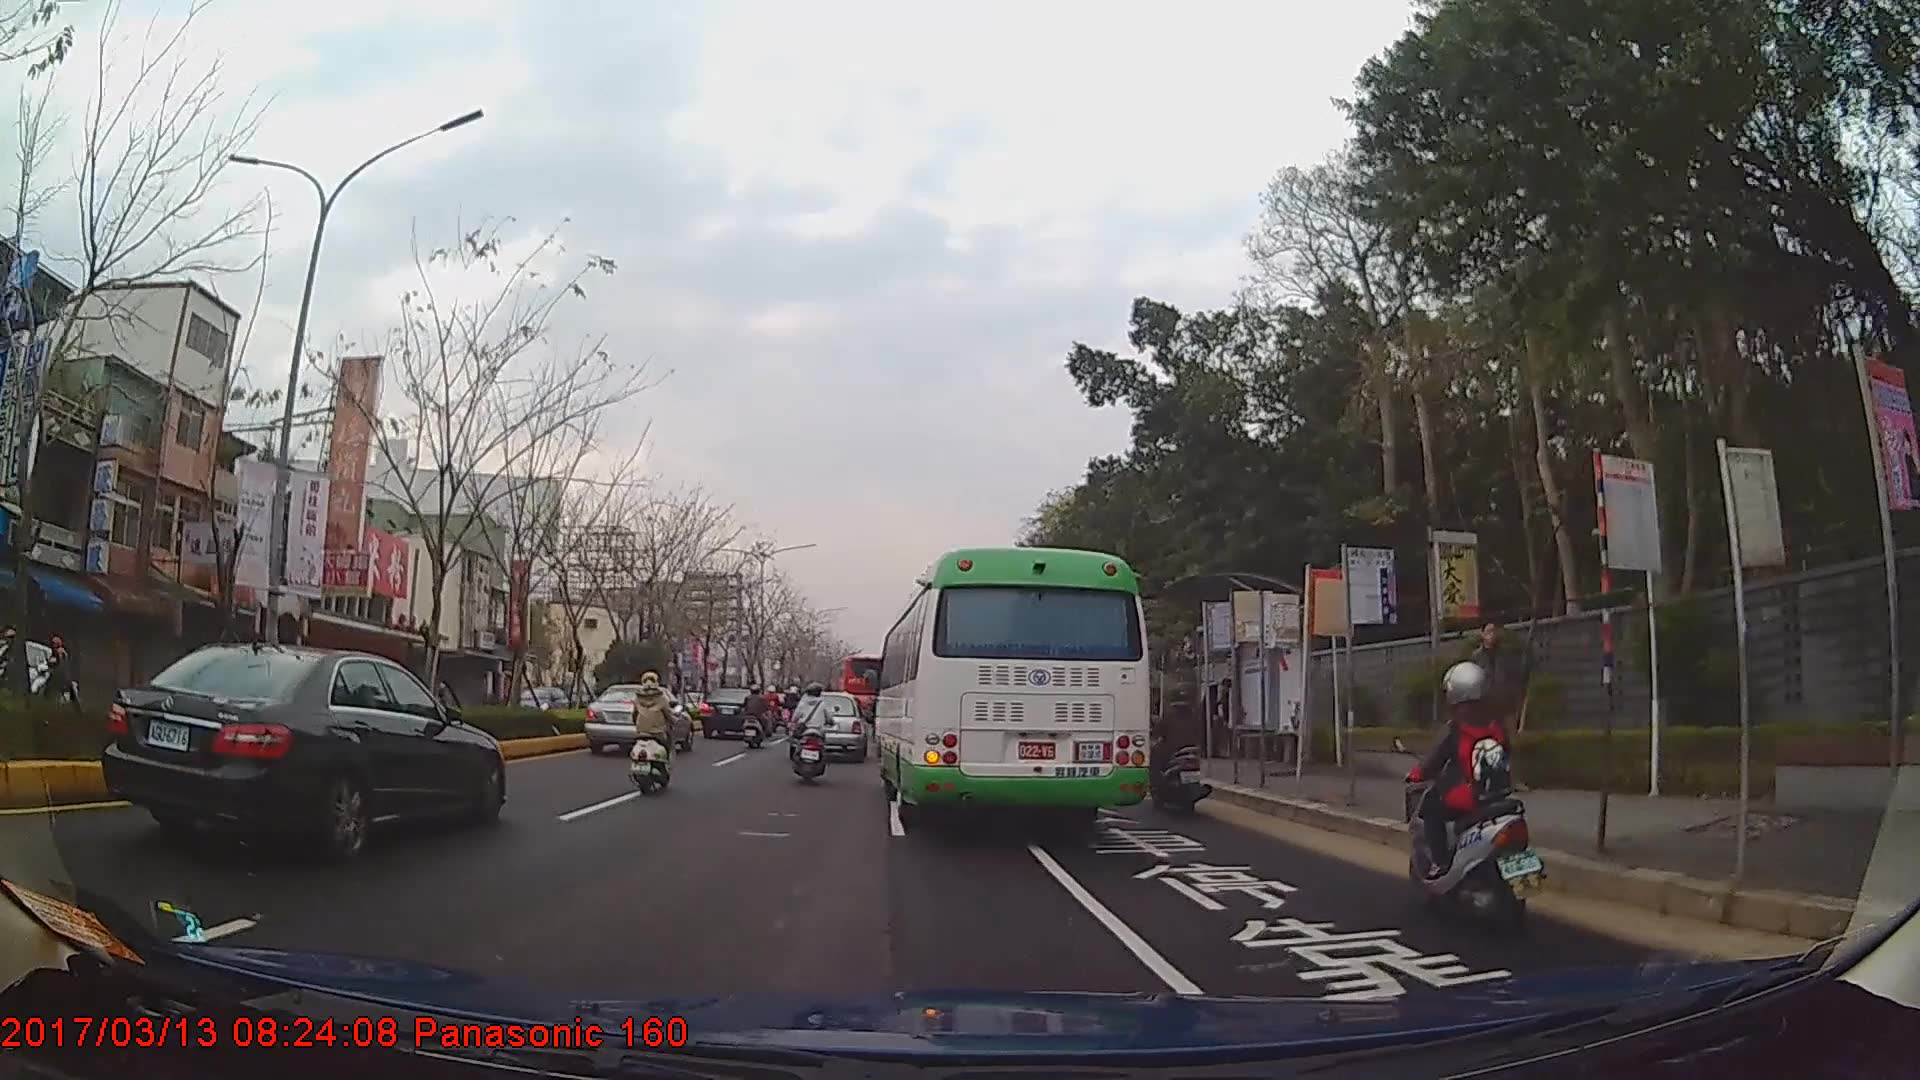pedestrian: (1464, 616, 1528, 796), (1198, 679, 1236, 763)
rider: (1397, 659, 1544, 933), (1150, 680, 1215, 812), (628, 674, 676, 794), (792, 684, 837, 779), (34, 637, 77, 702), (743, 683, 773, 746), (786, 684, 806, 724)
vehicle: (100, 638, 504, 864), (872, 546, 1151, 830), (586, 683, 694, 753), (788, 689, 867, 766), (701, 683, 770, 739)
